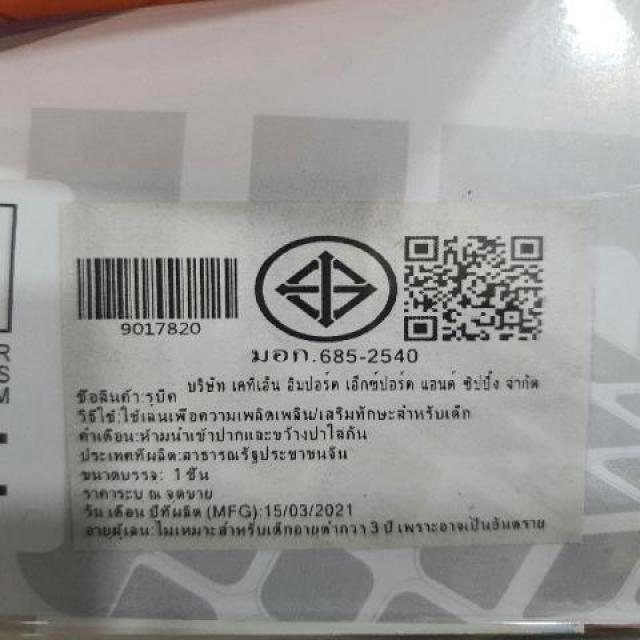Barcode: (66, 245, 250, 338)
